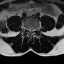CCS_stenosis: (30, 27, 32, 36)
LFS_normal: (33, 27, 35, 33)
LLS_normal: (32, 27, 33, 34)
RFS_stenosis: (27, 27, 29, 32)
RLS_normal: (28, 27, 30, 34)
